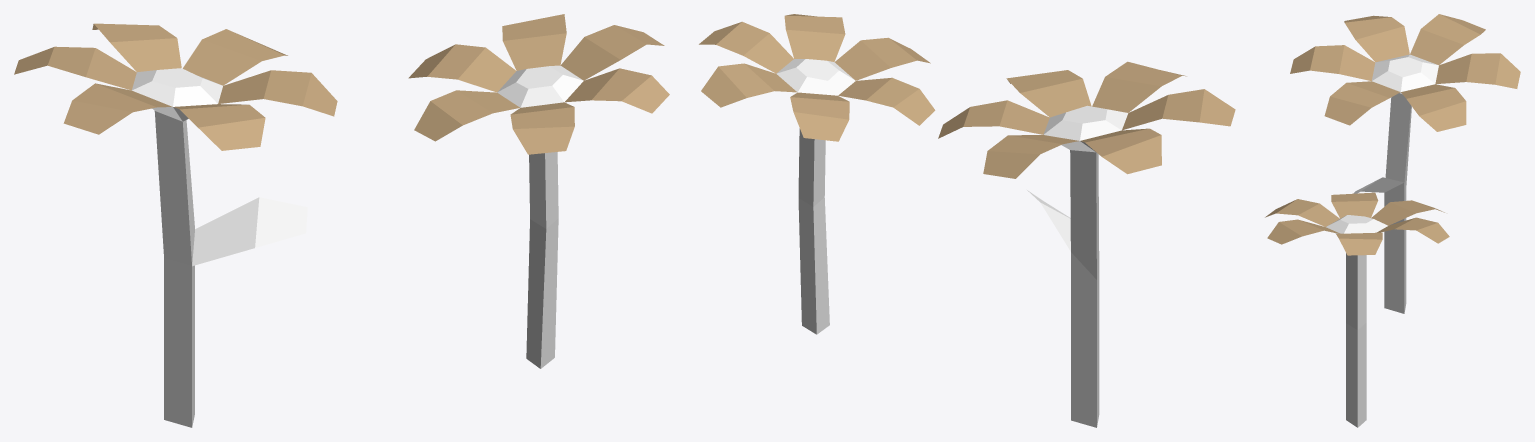
The model's file is Low_Poly_Flowers.glb.
The picture shows the model from 3 angles, left to right: view 1: azimuth 30°, elevation 25°; view 2: azimuth 150°, elevation 25°; view 3: azimuth 270°, elevation 25°; orthographic projection. The views are drawn at different scales.
Visible parts, largest first — view 1: Circle.006_Circle.007_Material.001_0, Circle.001_Material.001_0; view 2: Circle.006_Circle.007_Material.001_0, Circle.001_Material.001_0; view 3: Circle.006_Circle.007_Material.001_0, Circle.001_Material.001_0.
Boxes of the visible parts, x1,y1,x2,y2 form: Circle.006_Circle.007_Material.001_0: (14,23,337,427); Circle.001_Material.001_0: (408,14,669,368); Circle.006_Circle.007_Material.001_0: (938,61,1235,427); Circle.001_Material.001_0: (699,14,935,334); Circle.006_Circle.007_Material.001_0: (1290,14,1520,313); Circle.001_Material.001_0: (1265,192,1449,427).
Size of the model in its own units: 56.54 by 33.38 by 30.19.
Materials: 1 (1 with a texture image).
